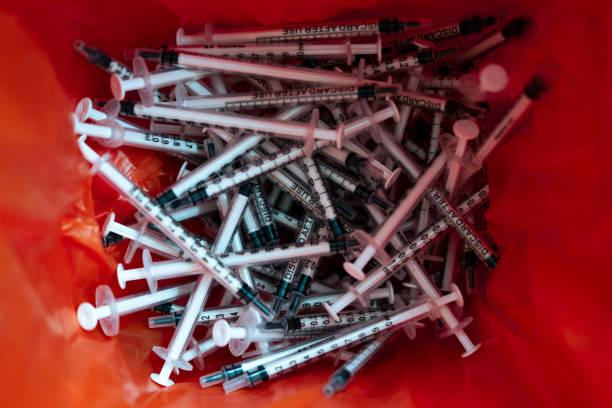Syringe: (79, 137, 270, 315), (223, 291, 461, 392), (343, 154, 446, 279), (323, 218, 449, 318), (120, 101, 343, 147), (186, 139, 330, 203), (135, 49, 375, 85), (176, 18, 428, 45), (200, 337, 327, 387), (77, 282, 194, 335), (176, 83, 399, 110), (427, 188, 498, 268), (172, 37, 381, 64), (73, 115, 203, 155), (323, 331, 393, 396), (383, 16, 496, 53), (219, 239, 356, 266), (455, 18, 530, 64), (317, 161, 388, 208), (302, 157, 342, 236), (261, 309, 390, 332), (352, 49, 455, 77), (74, 40, 133, 79), (273, 258, 300, 312), (197, 305, 243, 326), (464, 169, 476, 177)
